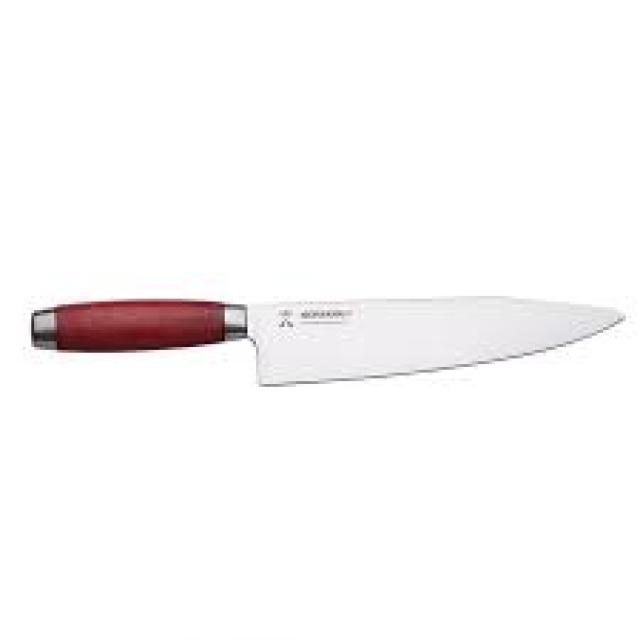knife: (27, 286, 633, 411)
